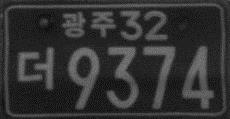2: (143, 9, 167, 41)
3: (106, 45, 140, 109), (119, 9, 143, 40)
4: (180, 44, 215, 109)
7: (141, 45, 178, 110)
9: (66, 46, 99, 110)
광주_O: (61, 10, 116, 40)
더: (15, 46, 54, 91)
